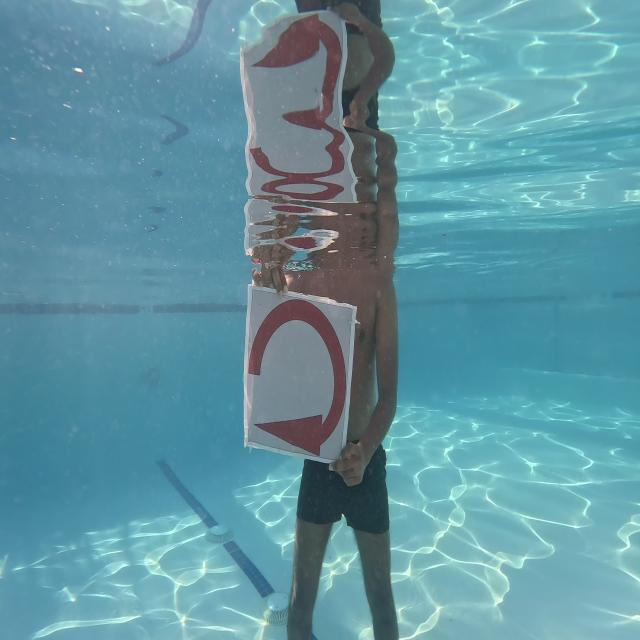red_side: (242, 284, 352, 463)
